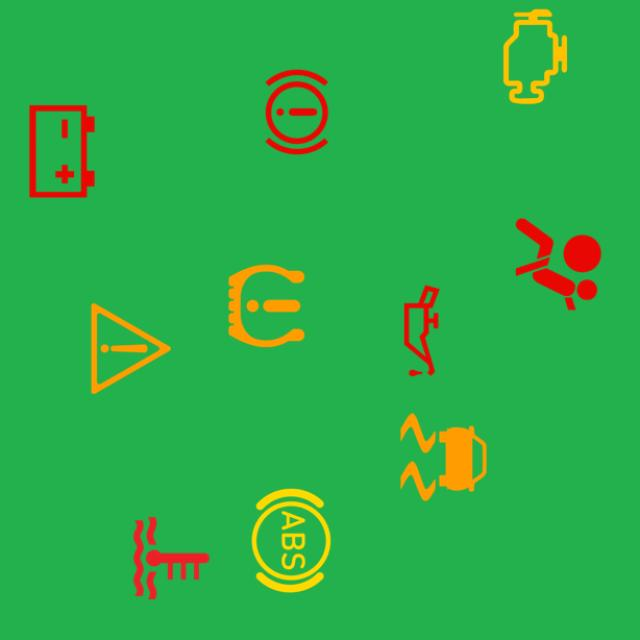Anti Lock Braking System: (234, 483, 348, 598)
Braking System Issue: (240, 55, 354, 169)
Charging System Issue: (5, 94, 119, 208)
Check Engine: (478, 0, 592, 114)
Electronic Stability Problem -ESP-: (386, 400, 501, 514)
Engine Overheating Warning Light: (114, 501, 228, 615)
Low Engine Oil Warning Light: (364, 274, 478, 388)
Low Tire Pressure Warning Light: (210, 249, 324, 363)
Master warning light: (74, 292, 188, 406)
SRS-Airbag: (501, 207, 615, 321)
